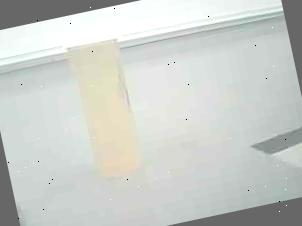Bottle A: (63, 27, 141, 176)
